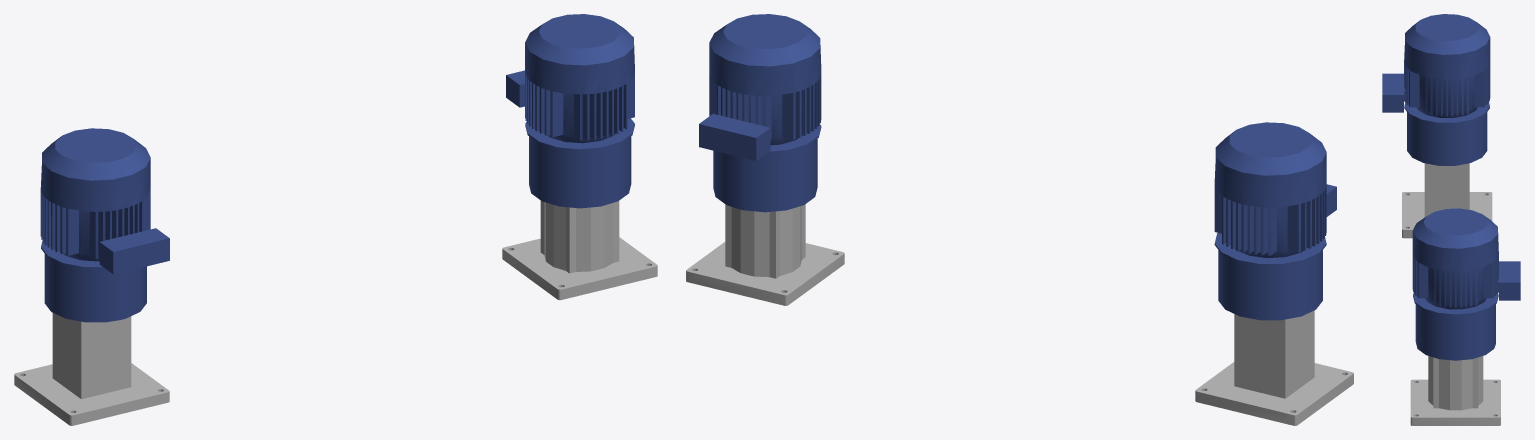
The model's file is pump_export.glb.
The picture shows the model from 3 angles, left to right: view 1: azimuth 30°, elevation 25°; view 2: azimuth 150°, elevation 25°; view 3: azimuth 270°, elevation 25°; orthographic projection. The views are drawn at different scales.
Parts seen in each view (by area): view 1: pump1; view 2: pump1; view 3: pump1.
Part boxes in pixels (left/top/right/bottom): pump1: left=14, top=14, right=657, bottom=425; pump1: left=686, top=14, right=1353, bottom=425; pump1: left=1382, top=14, right=1520, bottom=425.
Size of the model in its own units: 2.66 by 1.05 by 0.6847.
